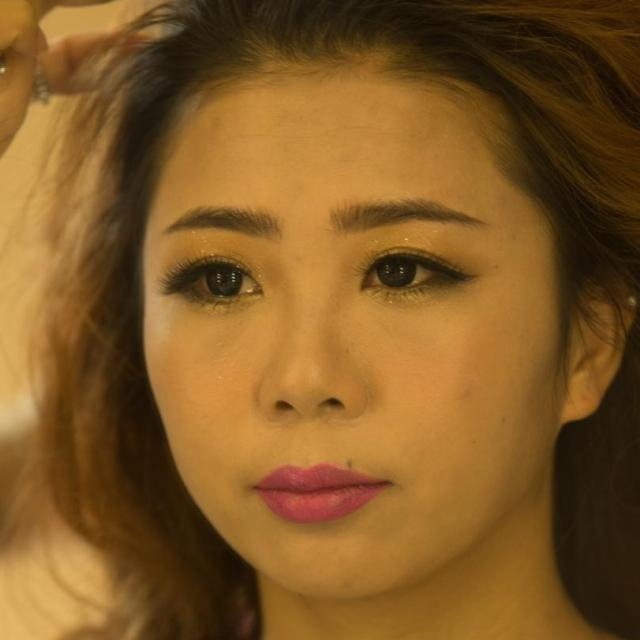Depress: (140, 58, 571, 604)
